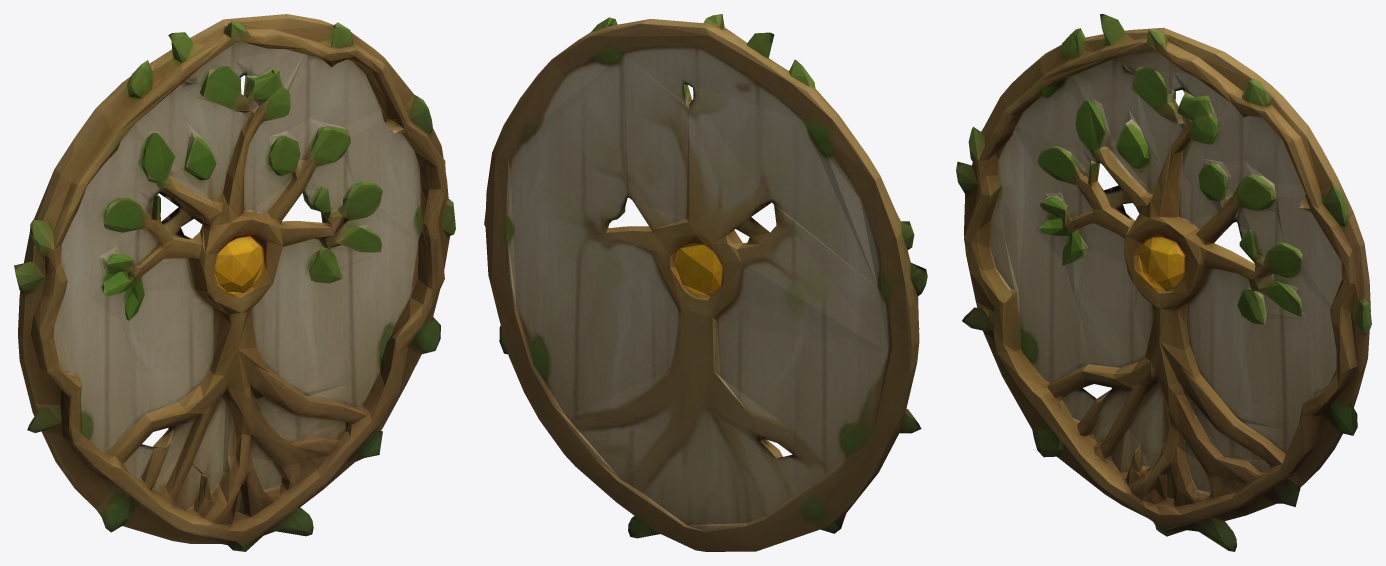
Rendered from legendaire_bouclier.glb.
3 views of the same model, side by side, from view 1: azimuth 30°, elevation 25°; view 2: azimuth 150°, elevation 25°; view 3: azimuth 330°, elevation 25° (orthographic). The views are drawn at different scales.
Visible parts, largest first — view 1: geometry_0; view 2: geometry_0; view 3: geometry_0.
Part boxes in pixels (bbox=[...]): geometry_0: bbox=[14, 14, 455, 551]; geometry_0: bbox=[484, 14, 927, 551]; geometry_0: bbox=[956, 14, 1371, 551].
Bounding box in the file's own units: 0.8534 × 0.9934 × 0.0563.
Materials: 1 (1 with a texture image).
